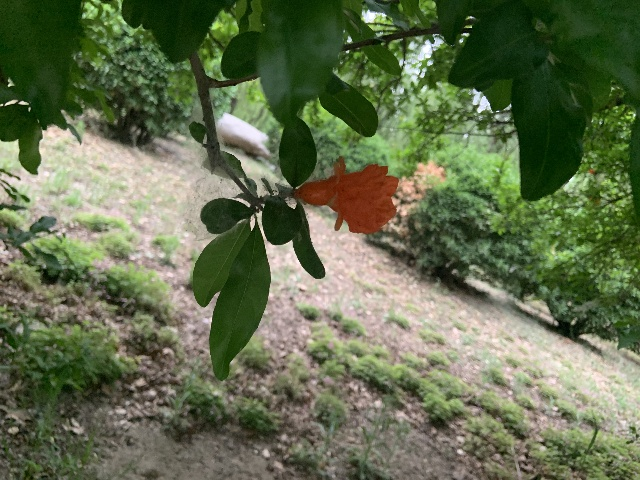flower: (293, 155, 400, 233)
